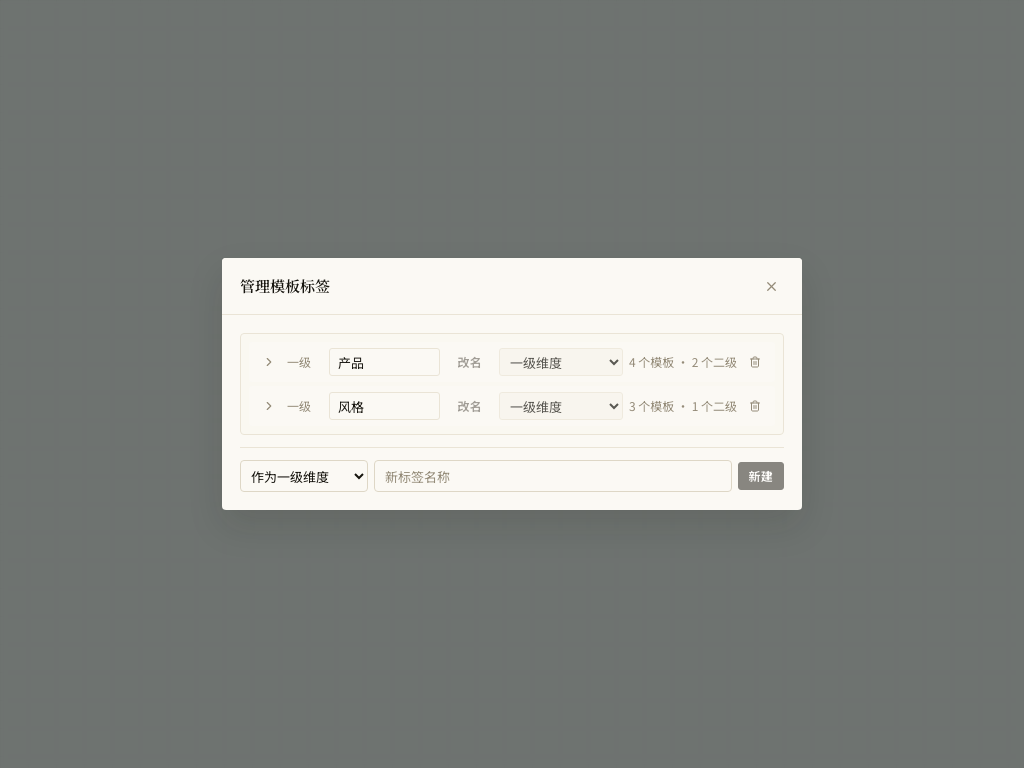
TemplateTagManager · 模板词表结构 › 能新建一级维度，也能挂到二级取值
Type "场景" into the field labelled "新标签名称". click: [553, 476]
box: [374,460,732,492]
Then press Enter
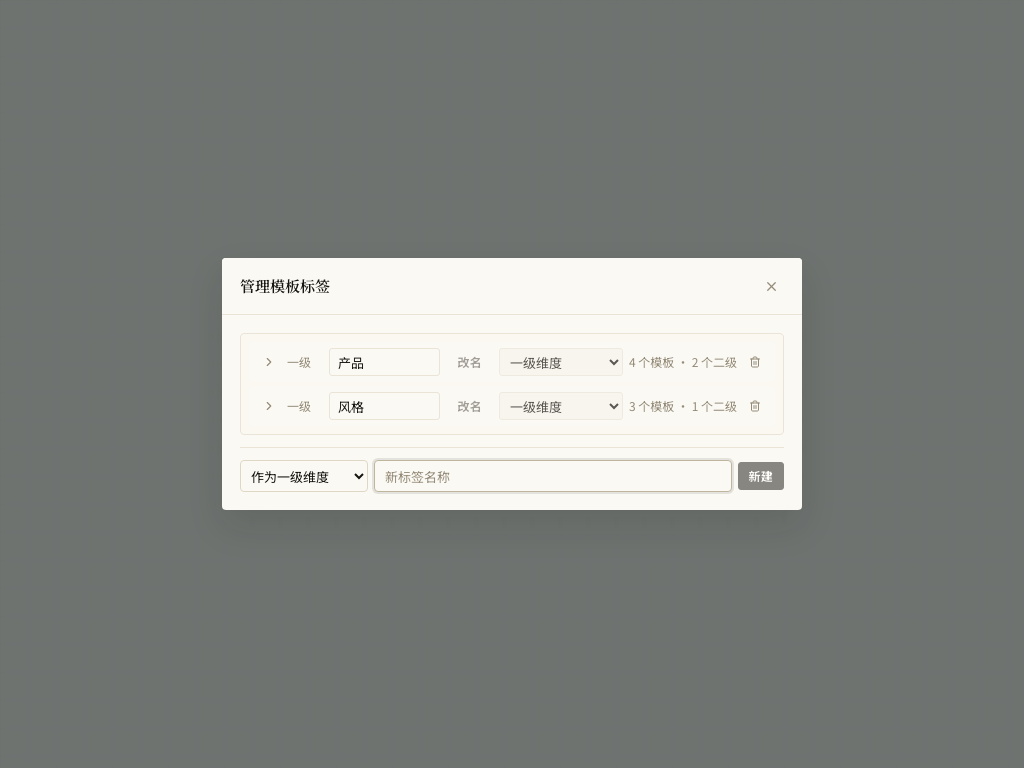
Select "产品 下" in the dropdown named "新标签所属上级". click: [304, 476]
box: [240,460,368,492]
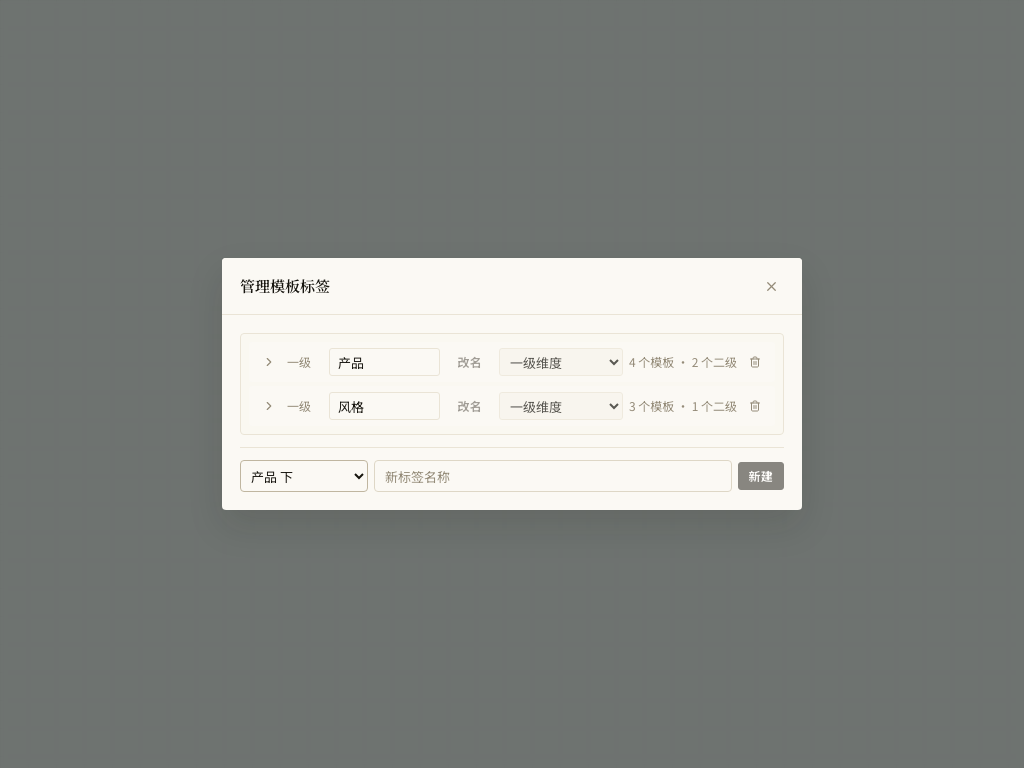
Type "T40" into the field labelled "新标签名称". click: [553, 476]
box: [374,460,732,492]
Then press Enter
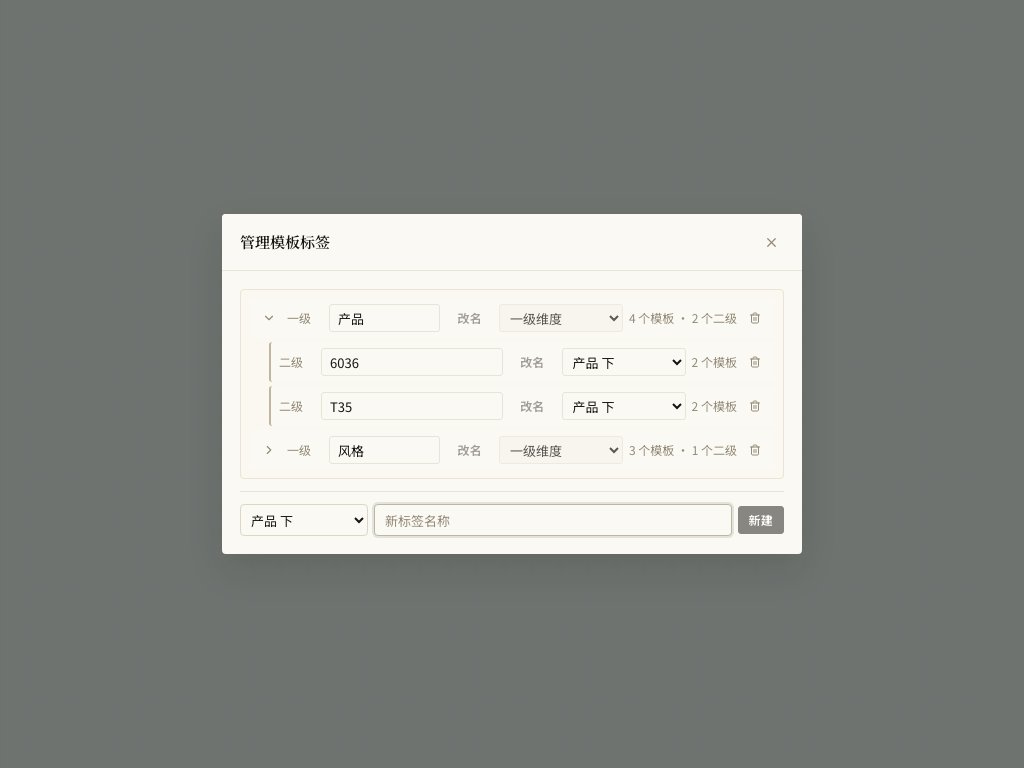
Now the button named "收起 产品" is shown, box [257,306,281,330]
